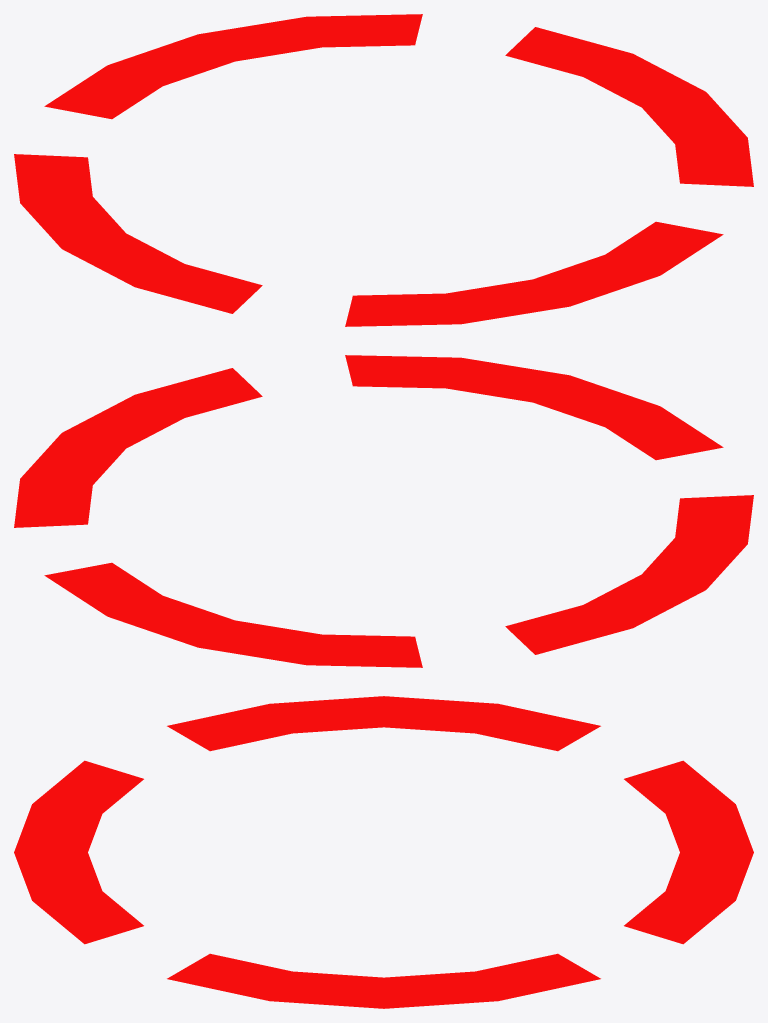
The model's file is signt.dae.
3 views of the same model, one above another, from view 1: azimuth 30°, elevation 25°; view 2: azimuth 150°, elevation 25°; view 3: azimuth 270°, elevation 25° (orthographic).
Parts seen in each view (by area): view 1: チューブ; view 2: チューブ; view 3: チューブ.
Part boxes in pixels (bbox=[...]): チューブ: bbox=[14, 14, 753, 326]; チューブ: bbox=[14, 355, 753, 667]; チューブ: bbox=[14, 696, 753, 1008].
Size of the model in its own units: 1 by 0 by 1.
